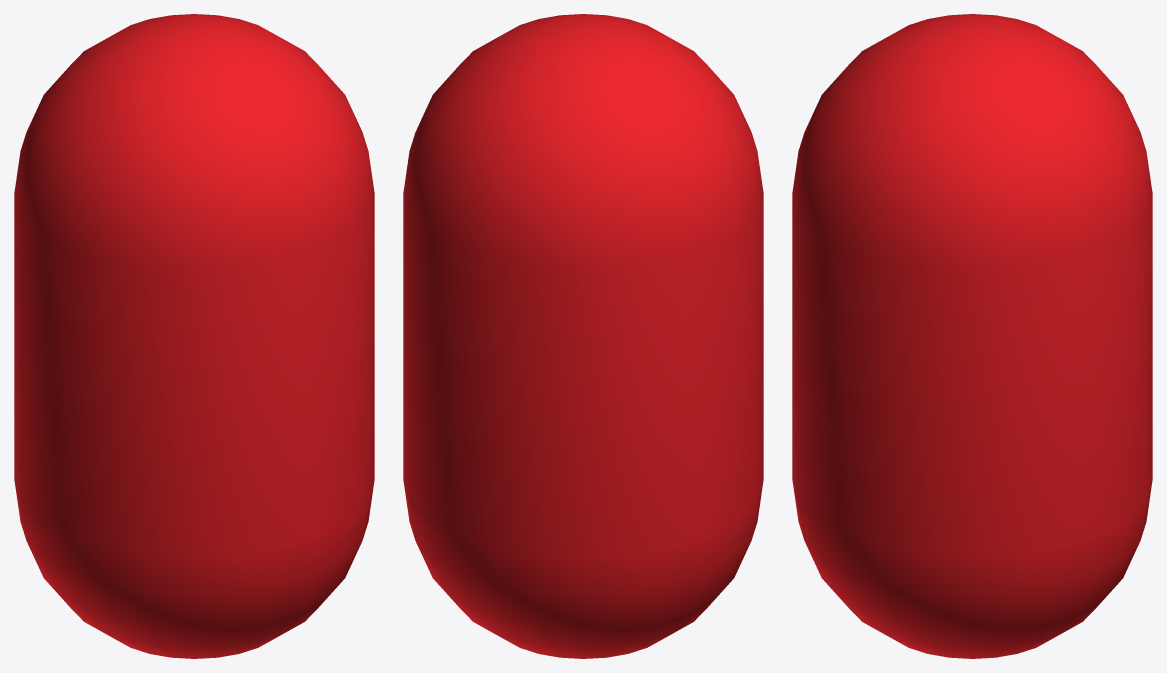
The picture shows the model from 3 angles, left to right: view 1: azimuth 30°, elevation 25°; view 2: azimuth 150°, elevation 25°; view 3: azimuth 270°, elevation 25°; orthographic projection.
Parts seen in each view (by area): view 1: body; view 2: body; view 3: body.
Part boxes in pixels (<box>): body: <box>14,14,374,658</box>; body: <box>403,14,763,658</box>; body: <box>792,14,1152,658</box>.
Size of the model in its own units: 0.0107 by 0.02 by 0.0107.
